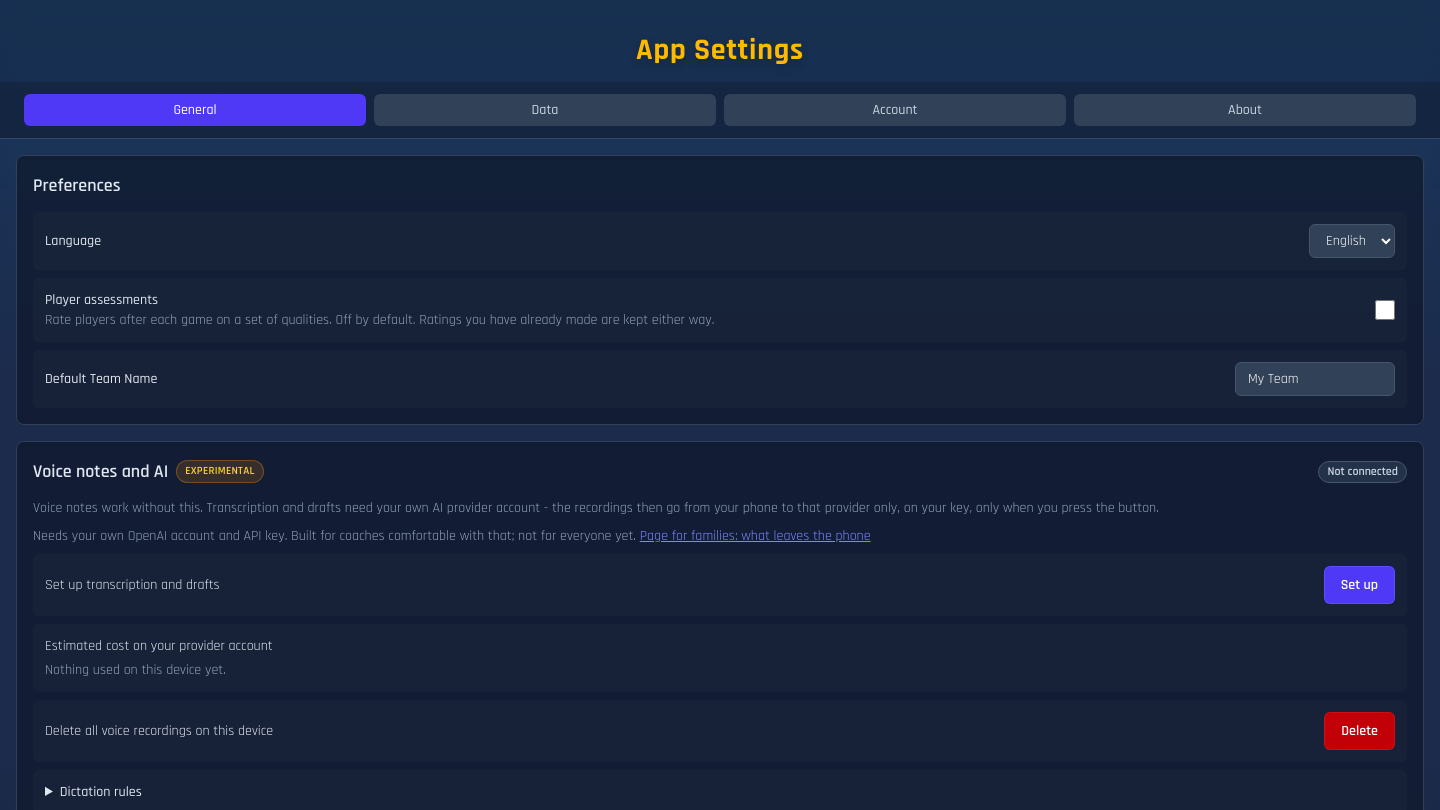
Test: <SettingsModal /> › displays storage unavailable message when navigator.storage is not supported
Click the button "About" at (1245, 110), box [1074,94,1416,126]
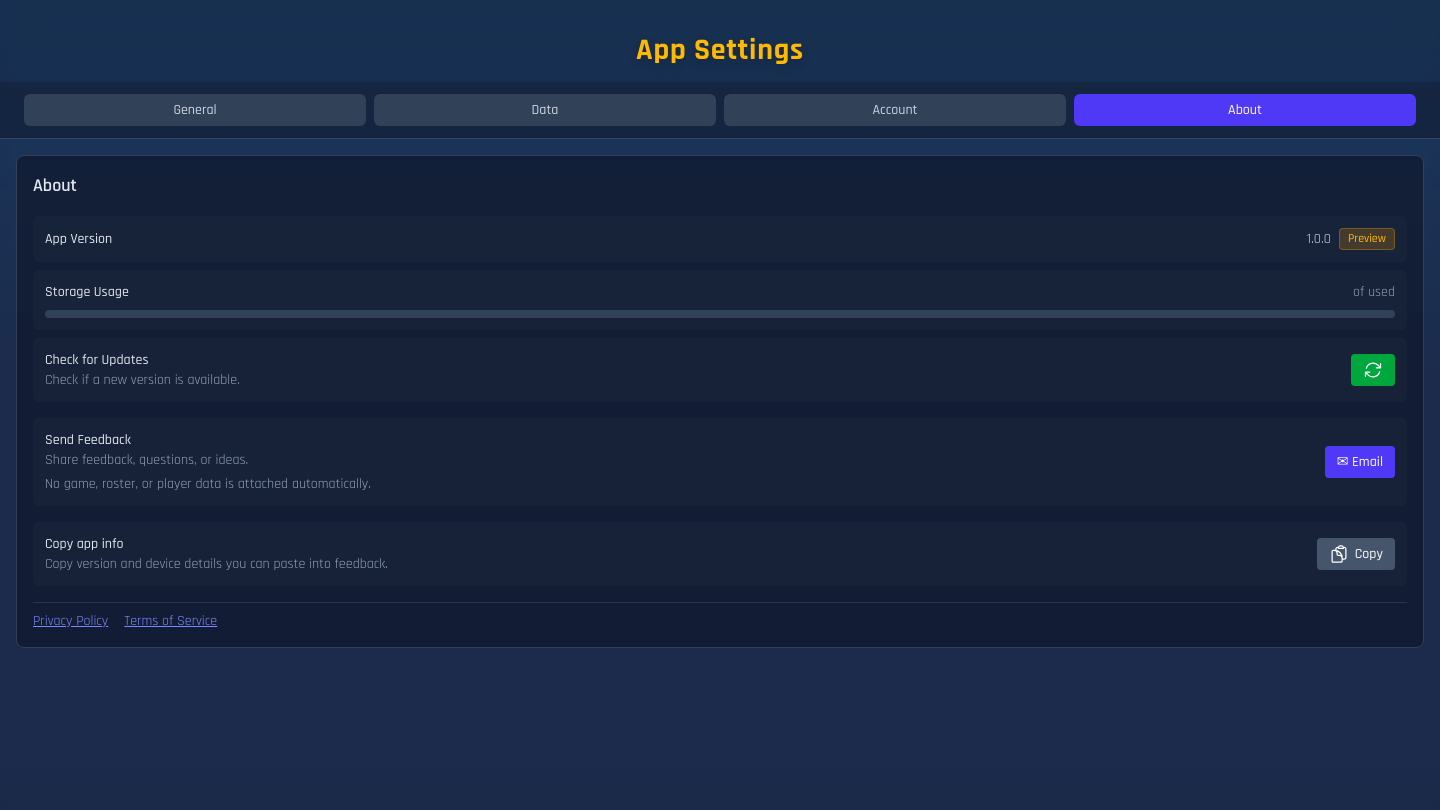
Now the text "Storage Usage" is shown, box [45,282,129,302]
Now the text "Unavailable" is shown, box [1353,282,1395,302]
